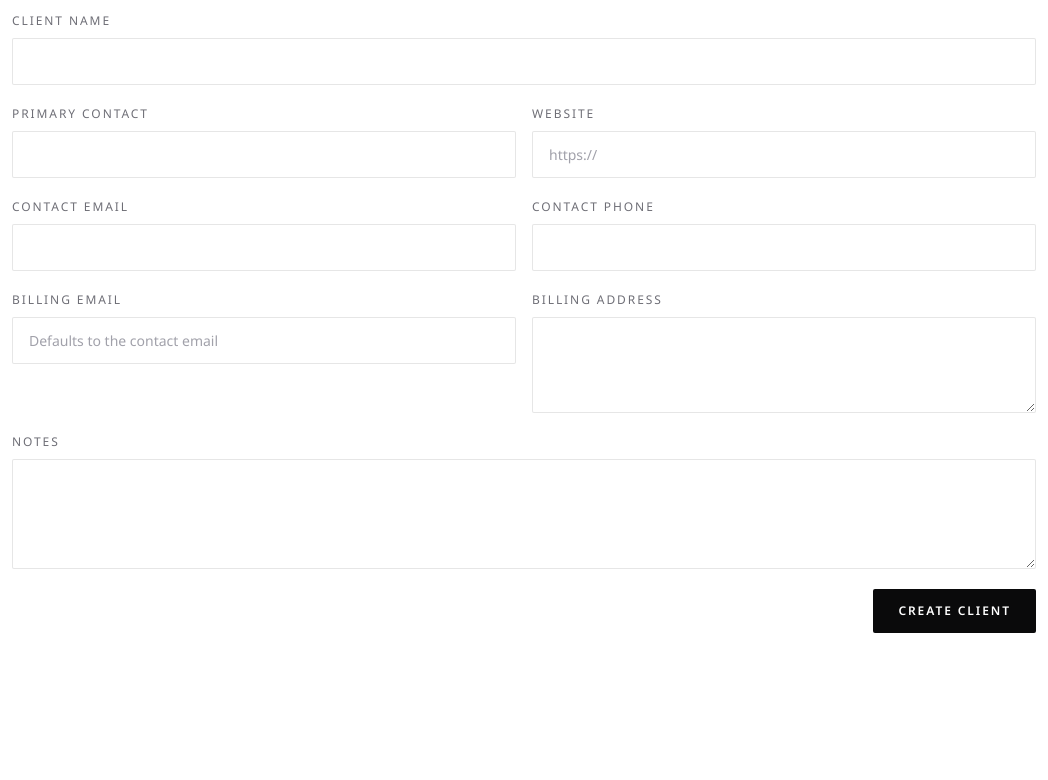
ClientForm — create mode › shows the server error and does not report success
In the field labelled "Client name": (524, 62) [12, 38, 1036, 85], type "Acme Co"
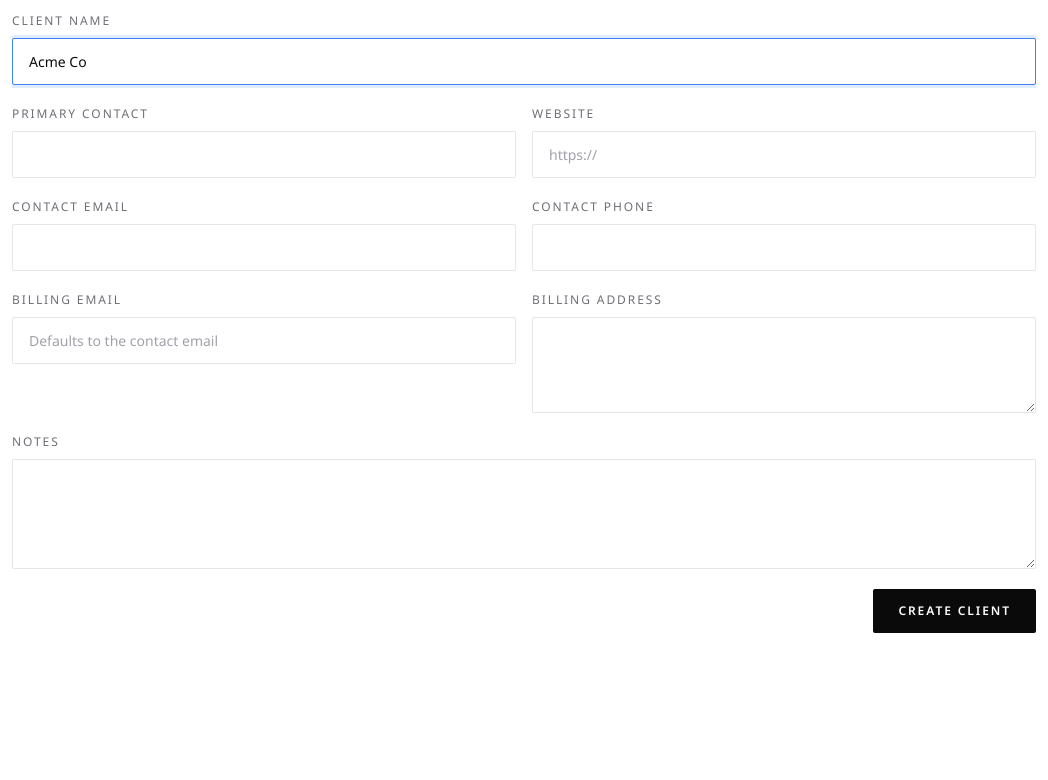
Click the button "Create client": click(955, 611) [873, 589, 1036, 633]
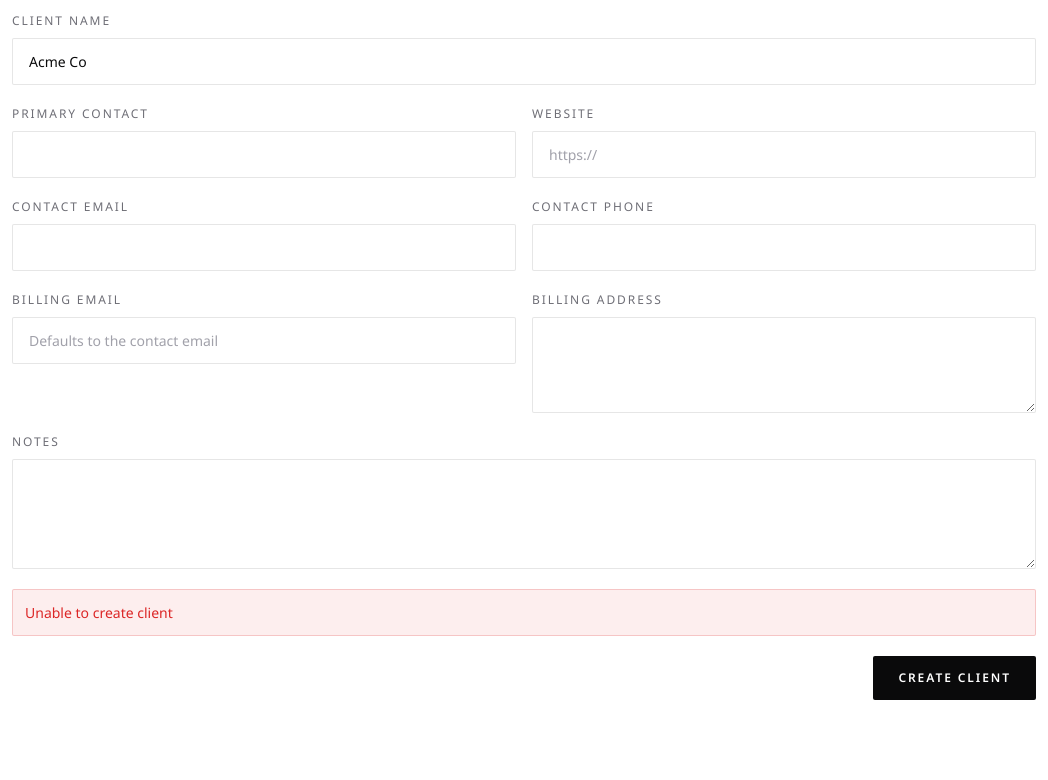
Expected: the text "Unable to create client" is shown, [12, 589, 1036, 636]
